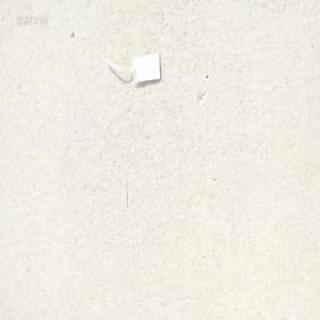LuggageTagtrack_idkeyframe: (106, 49, 162, 85)
